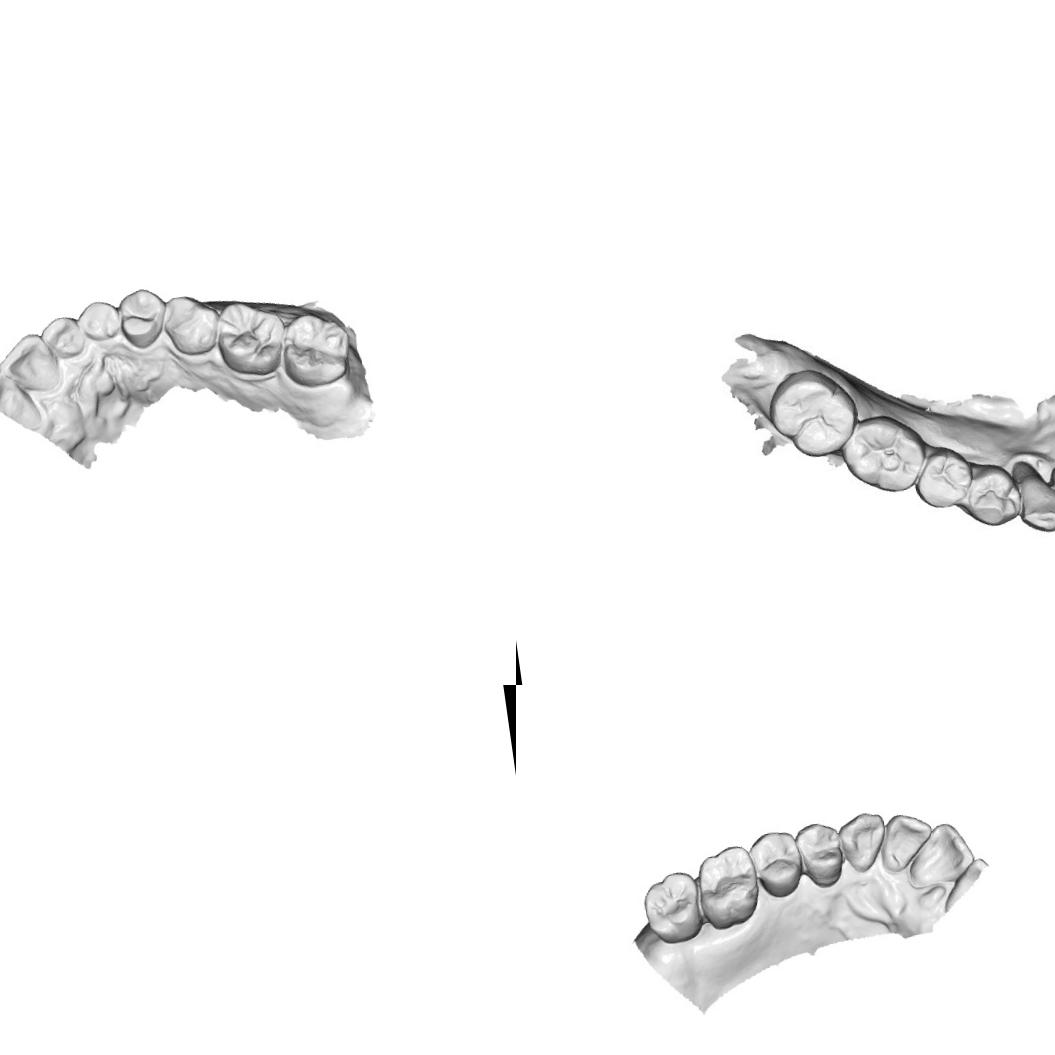canine: (836, 808, 890, 876), (1013, 467, 1055, 539), (74, 296, 122, 346)
incisor: (903, 817, 979, 890), (0, 327, 63, 399), (876, 808, 938, 876), (0, 366, 43, 435), (37, 312, 86, 362)
molar: (762, 359, 860, 466), (838, 410, 932, 500), (275, 306, 358, 392), (213, 294, 292, 381), (692, 842, 764, 934), (638, 868, 705, 948)
premolar: (745, 827, 808, 903), (910, 444, 977, 515), (160, 290, 225, 361), (960, 460, 1024, 530), (791, 818, 848, 892), (115, 284, 171, 352)
